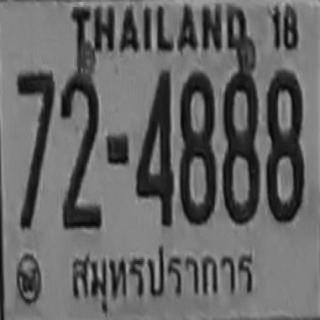N02: (60, 73, 98, 210), (61, 97, 99, 228)
N04: (135, 68, 172, 224)
N07: (16, 70, 54, 226)
N08: (178, 70, 216, 224), (265, 70, 303, 221), (222, 71, 259, 223)
P57: (68, 242, 259, 315)
